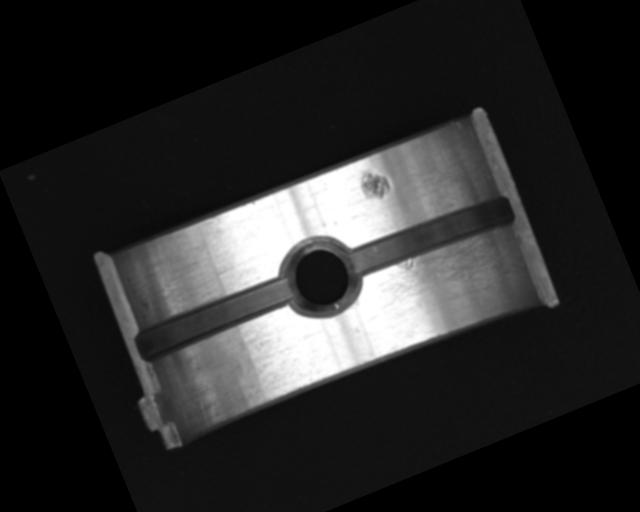bruise: (355, 162, 394, 205)
gap: (341, 185, 518, 289), (130, 271, 298, 365)
hole: (270, 226, 368, 329)
scratch: (356, 222, 525, 352)
